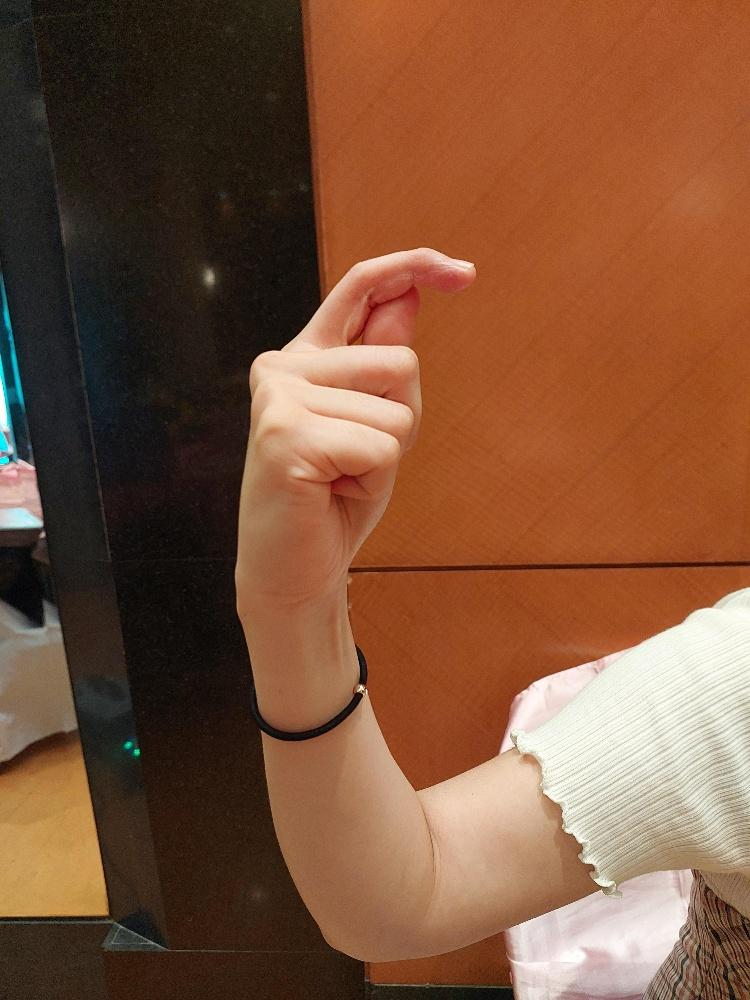t: (231, 241, 478, 609)
